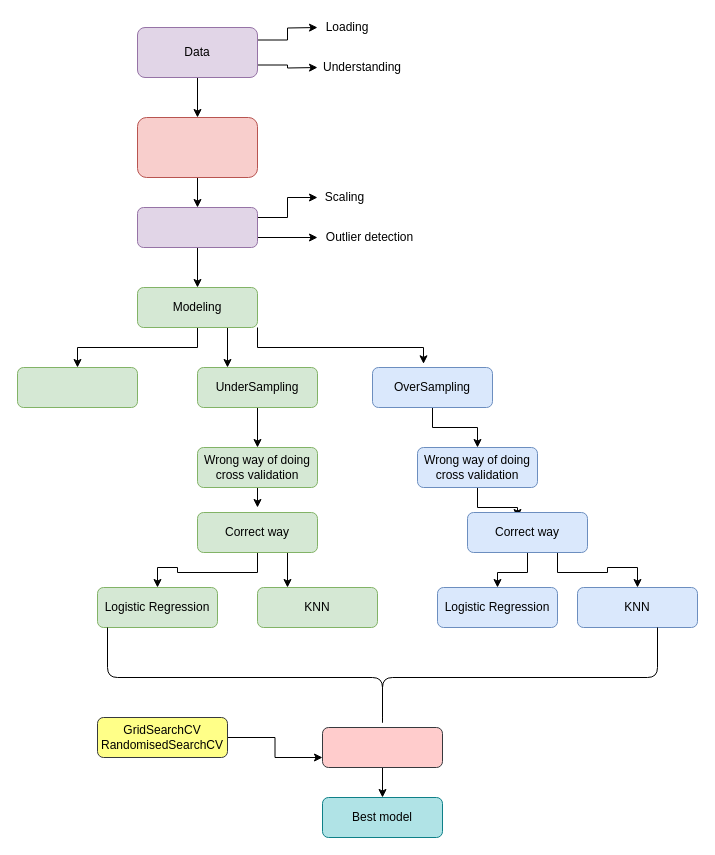
Image size: 715x855. Some labels were removed from this diagram. The centre of each missing label's shape, as x and y in pixels:
"Basic model" belongs at [77,387].
"Comparisons" belongs at [382,747].
"Data Preparation" belongs at [197,227].
"EDA" belongs at [197,147].
